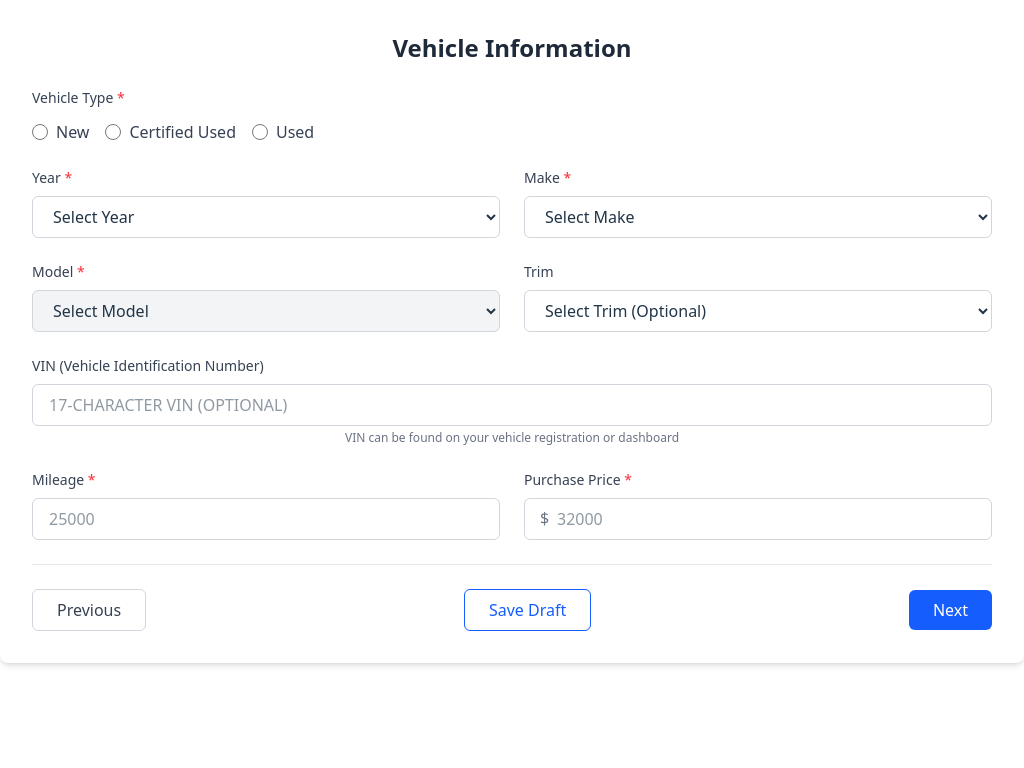
Test: VehicleInformation Component › Validation - Required Fields › should show error when vehicle type is not selected
The image size is (1024, 768).
Click the button "Next" at (950, 610), box [909,590,992,630]
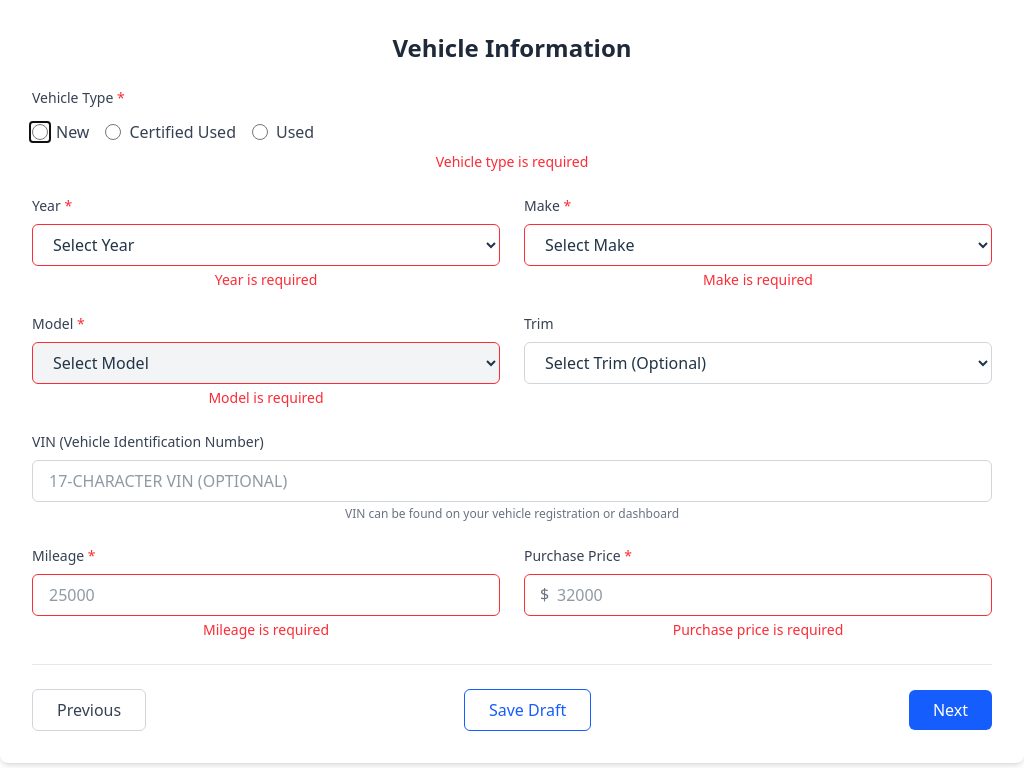
expect the text "Vehicle type is required" is shown: met, box [436,152,588,171]
